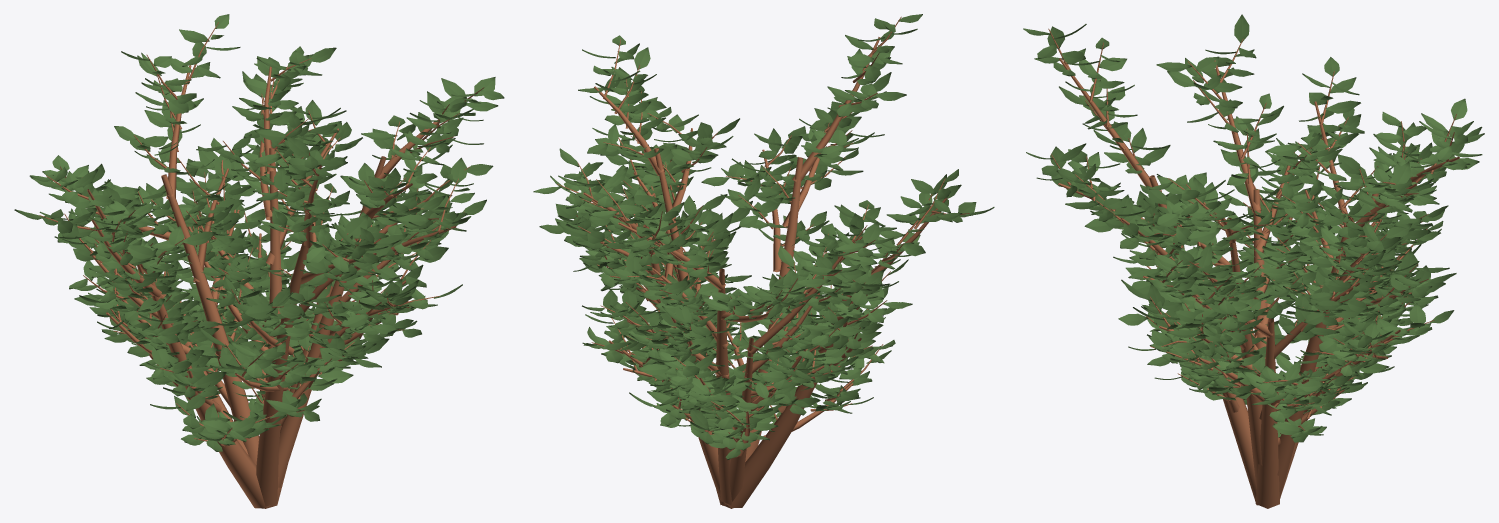
File: Arbousier_0_High.fbx
3 views of the same model, side by side, from view 1: azimuth 30°, elevation 25°; view 2: azimuth 150°, elevation 25°; view 3: azimuth 270°, elevation 25° (orthographic). The views are drawn at different scales.
Visible parts, largest first — view 1: Arbousier_0_High; view 2: Arbousier_0_High; view 3: Arbousier_0_High.
Boxes of the visible parts, x1,y1,x2,y2 form: Arbousier_0_High: (14,14,504,508); Arbousier_0_High: (533,14,994,508); Arbousier_0_High: (1023,14,1484,508).
Size of the model in its own units: 315 by 298 by 279.
